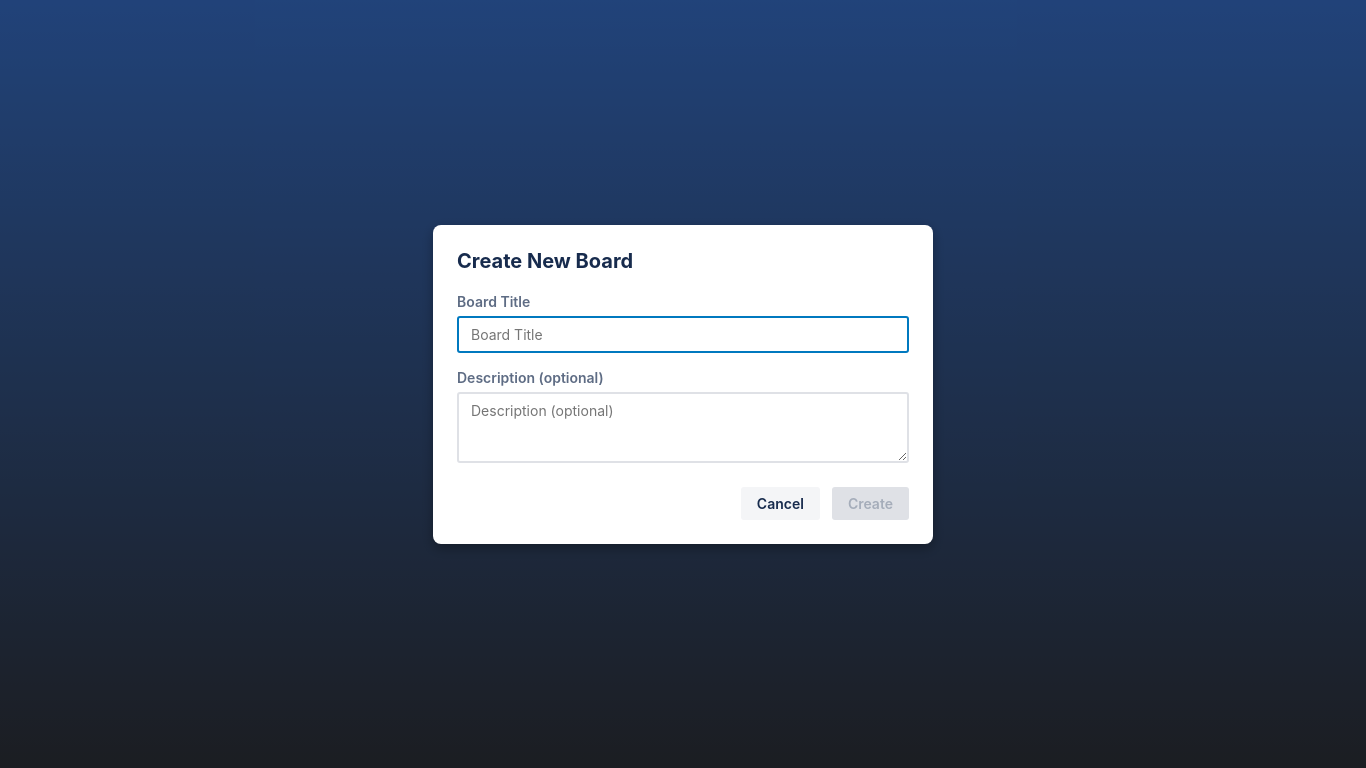
Scenario: CreateBoardModal › Submit button state › should update button state dynamically as user types
Expected: the button "Create" is disabled, x1=832 y1=486 x2=909 y2=520
In the field with placeholder "Board Title": (683, 334) x1=457 y1=316 x2=909 y2=352, type "T"
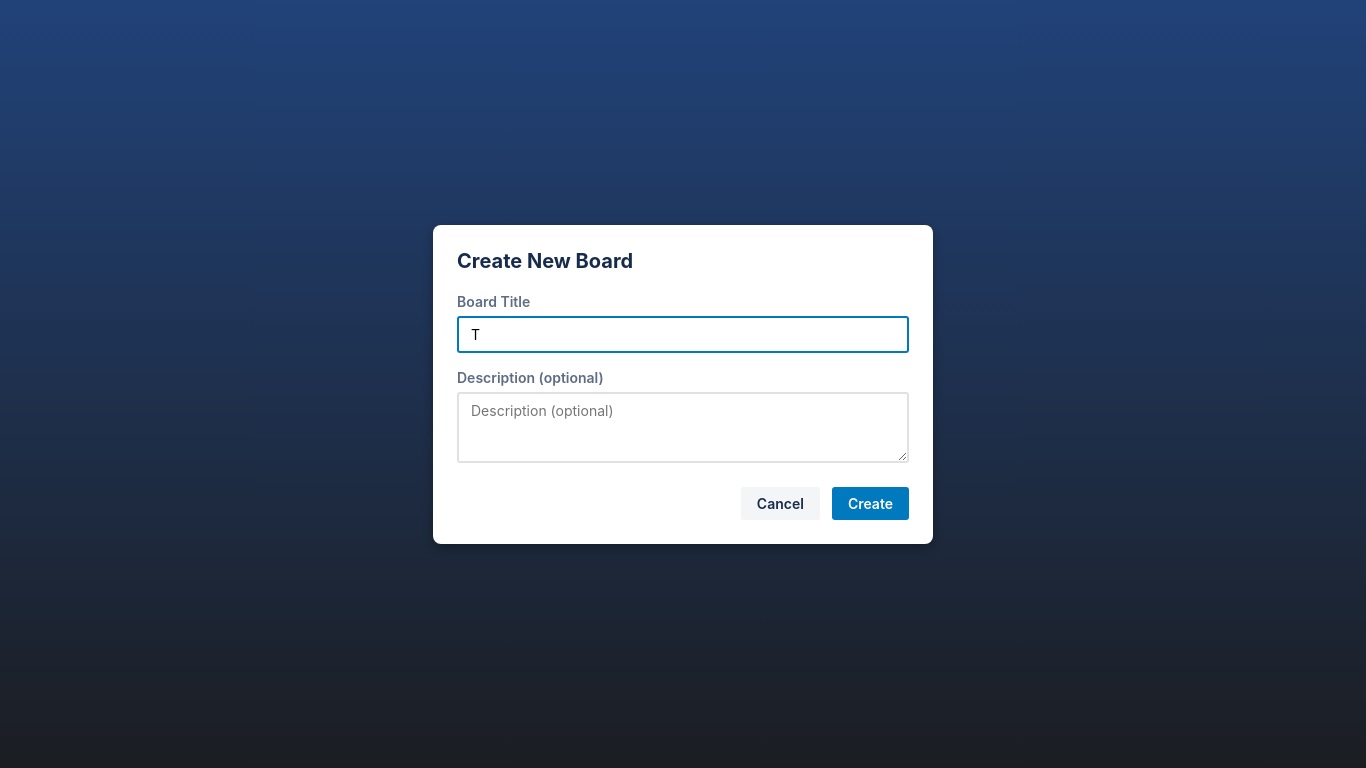
Result: the button "Create" is enabled at x1=832 y1=486 x2=909 y2=520
Clear the field with placeholder "Board Title": (683, 334) x1=457 y1=316 x2=909 y2=352
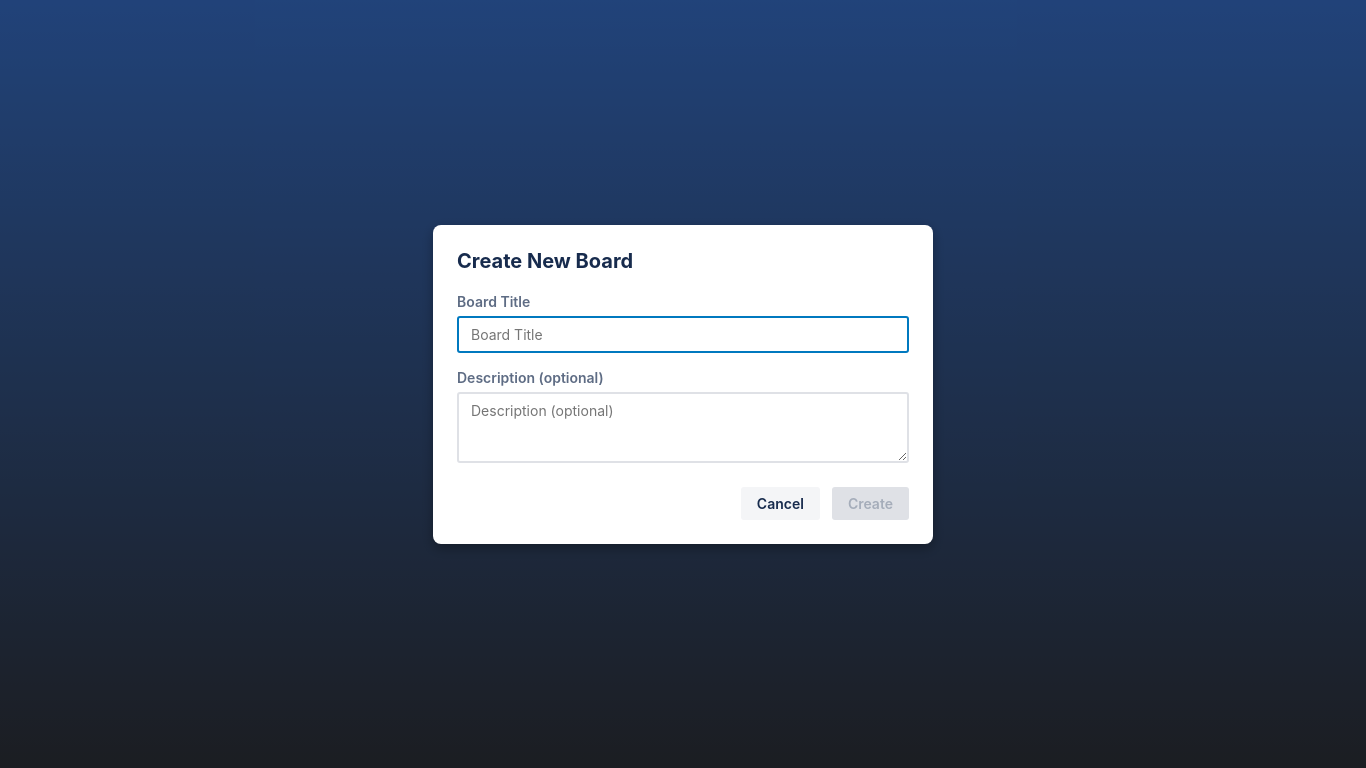
Result: the button "Create" is disabled at x1=832 y1=486 x2=909 y2=520
